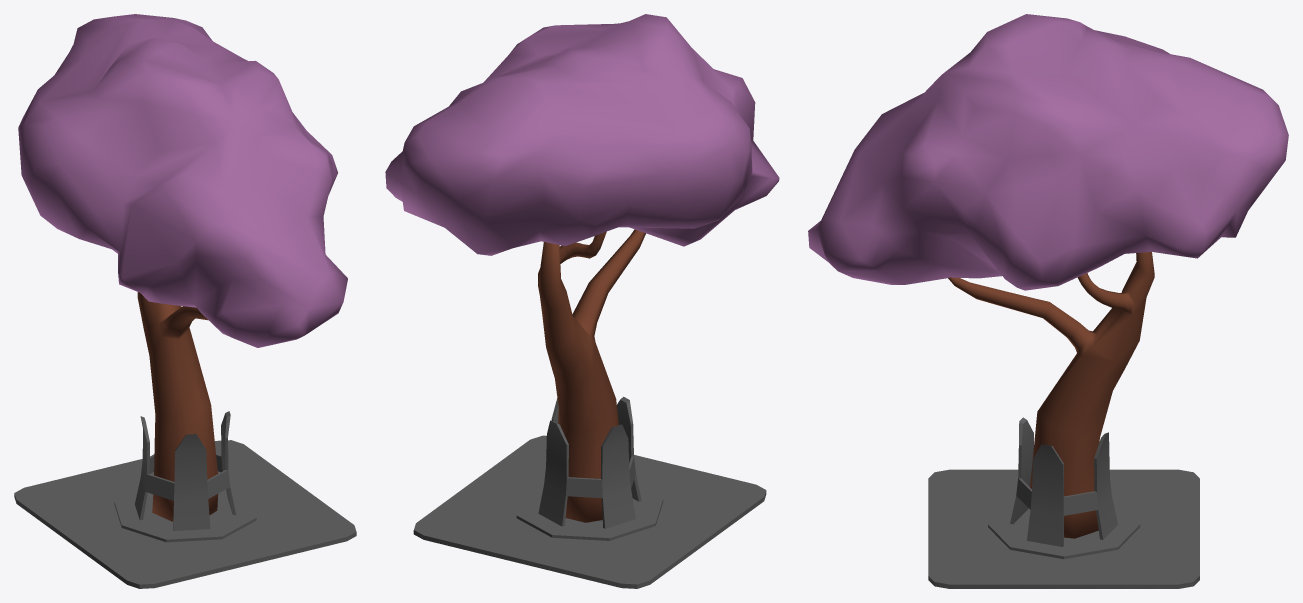
The model's file is arboles ciudad1.fbx.
3 renders of one model, left to right at view 1: azimuth 30°, elevation 25°; view 2: azimuth 150°, elevation 25°; view 3: azimuth 270°, elevation 25°, orthographic. The views are drawn at different scales.
Visible parts, largest first — view 1: ar.001, Cube; view 2: ar.001, Cube; view 3: ar.001, Cube.
Boxes of the visible parts, <box> form: ar.001: <box>18,14,347,521</box>; Cube: <box>14,411,356,588</box>; ar.001: <box>385,14,779,522</box>; Cube: <box>413,396,766,588</box>; ar.001: <box>808,14,1288,538</box>; Cube: <box>928,417,1199,588</box>.
Bounding box in the file's own units: 1441 × 2295 × 2033.
